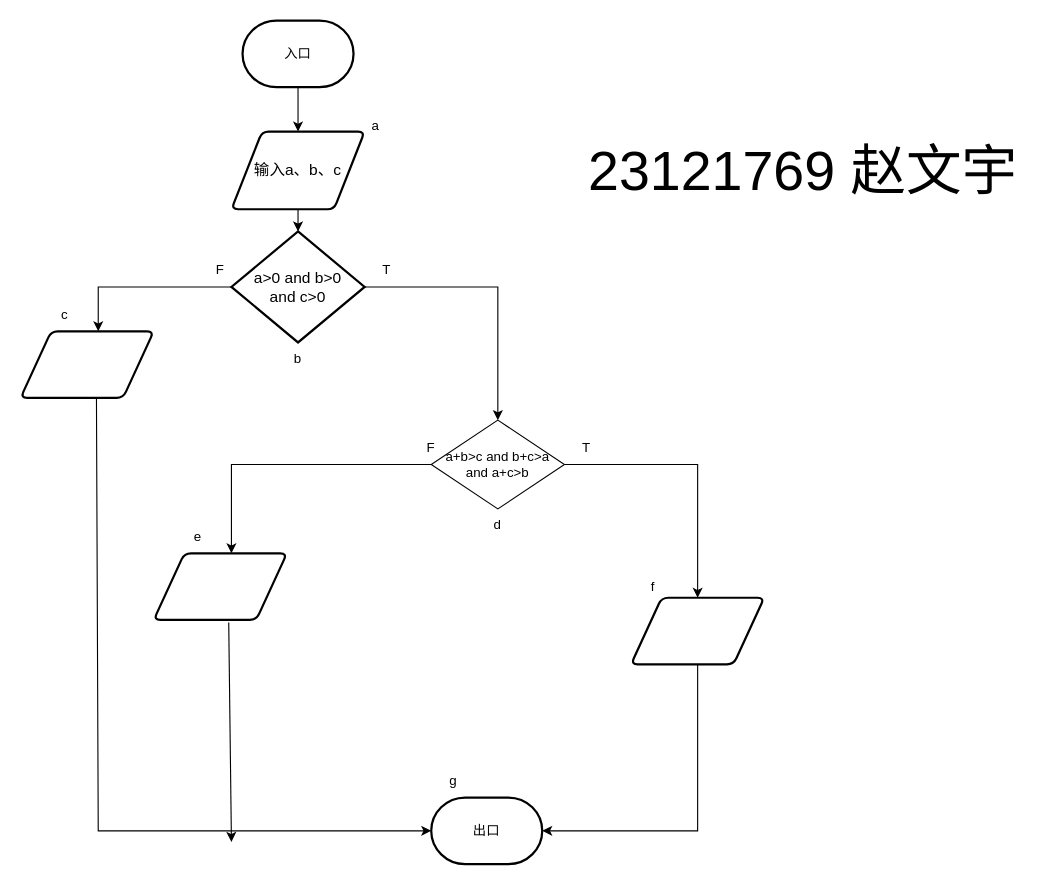
Image size: 1049x884. Some labels were removed from this diagram. The centre of each missing label's shape, as x and y in pixels:
输出 “构成三角形”: (x=697, y=630)
输出 “非三角形”: (x=219, y=586)
输出 “非法输入”: (x=86, y=364)
